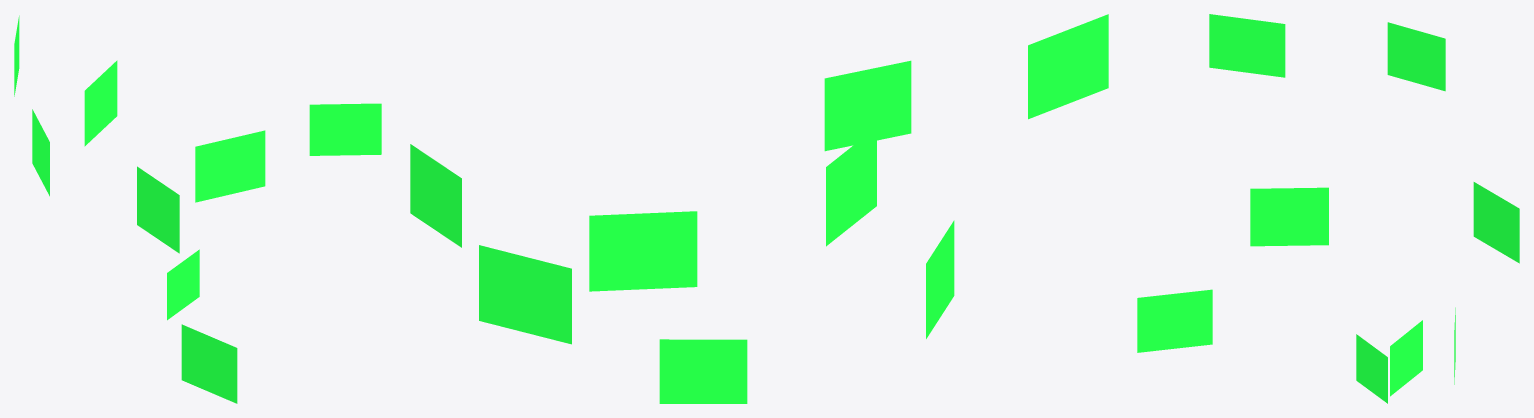
The model's file is screens-fallback.glb.
3 views of the same model, side by side, from view 1: azimuth 30°, elevation 25°; view 2: azimuth 150°, elevation 25°; view 3: azimuth 270°, elevation 25° (orthographic). The views are drawn at different scales.
Visible parts, largest first — view 1: screen7, screen8, screen5, screen3, screen4, screen6, screen1, screen2; view 2: screen4, screen7, screen2, screen1, screen6, screen3, screen8, screen5; view 3: screen3, screen5, screen1, screen2, screen4, screen8, screen6.
Part boxes in pixels (x1=…): screen7: x1=195, y1=130, x2=265, y2=202; screen8: x1=309, y1=103, x2=381, y2=155; screen5: x1=181, y1=324, x2=237, y2=403; screen3: x1=137, y1=166, x2=179, y2=253; screen4: x1=84, y1=60, x2=117, y2=146; screen6: x1=167, y1=249, x2=199, y2=320; screen1: x1=32, y1=109, x2=49, y2=196; screen2: x1=14, y1=15, x2=19, y2=96; screen4: x1=589, y1=211, x2=697, y2=291; screen7: x1=479, y1=245, x2=571, y2=344; screen2: x1=824, y1=60, x2=911, y2=151; screen1: x1=1028, y1=14, x2=1108, y2=119; screen6: x1=659, y1=339, x2=747, y2=403; screen3: x1=826, y1=140, x2=876, y2=246; screen8: x1=410, y1=144, x2=461, y2=247; screen5: x1=926, y1=220, x2=954, y2=338; screen3: x1=1250, y1=187, x2=1328, y2=246; screen5: x1=1137, y1=289, x2=1212, y2=352; screen1: x1=1209, y1=14, x2=1285, y2=77; screen2: x1=1387, y1=22, x2=1445, y2=91; screen4: x1=1473, y1=182, x2=1519, y2=263; screen8: x1=1390, y1=320, x2=1422, y2=396; screen6: x1=1356, y1=334, x2=1387, y2=403.
Size of the model in its own units: 3.8 by 2.56 by 3.03.
